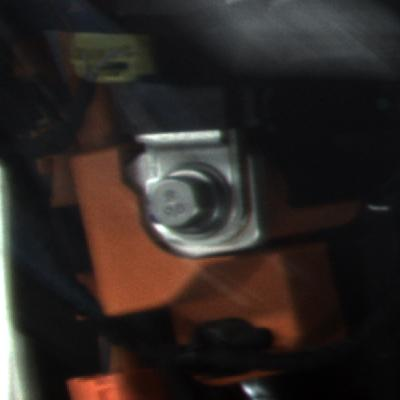nut_b: (144, 164, 237, 244)
